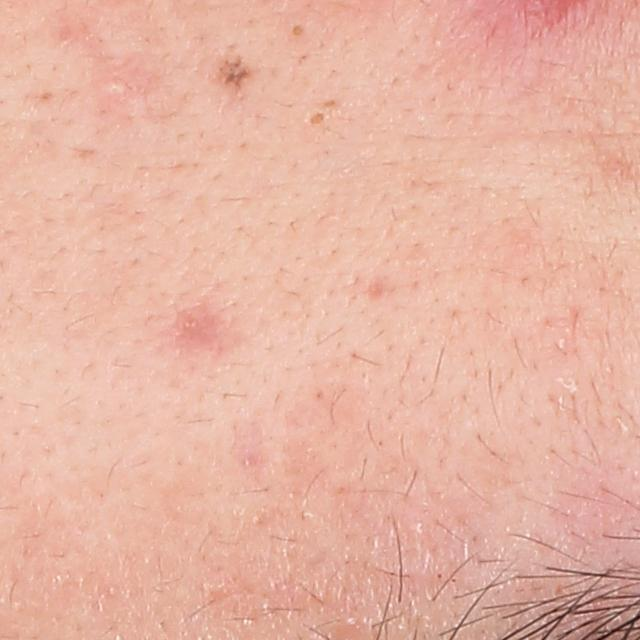comedo: (304, 110, 328, 132), (286, 23, 309, 40)
